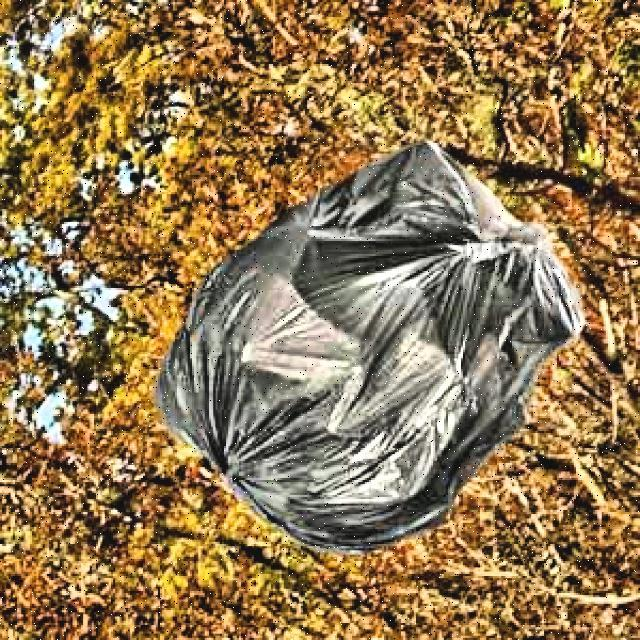Trashbag: (151, 139, 587, 555)
